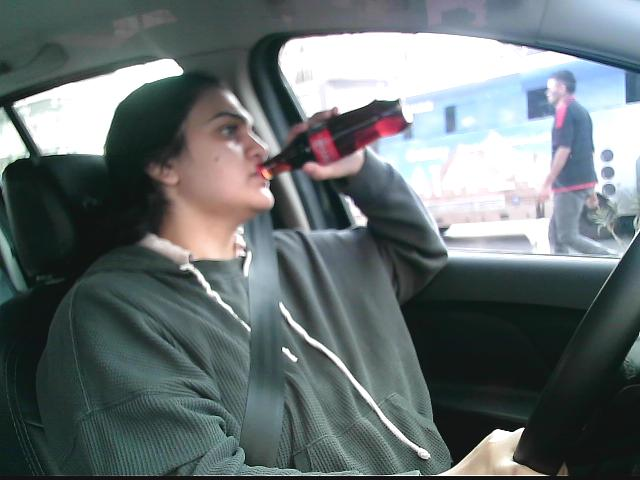Drinking: (263, 99, 412, 189)
